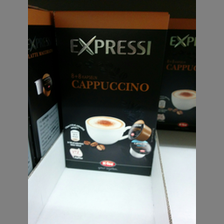coffee: (52, 7, 169, 177)
